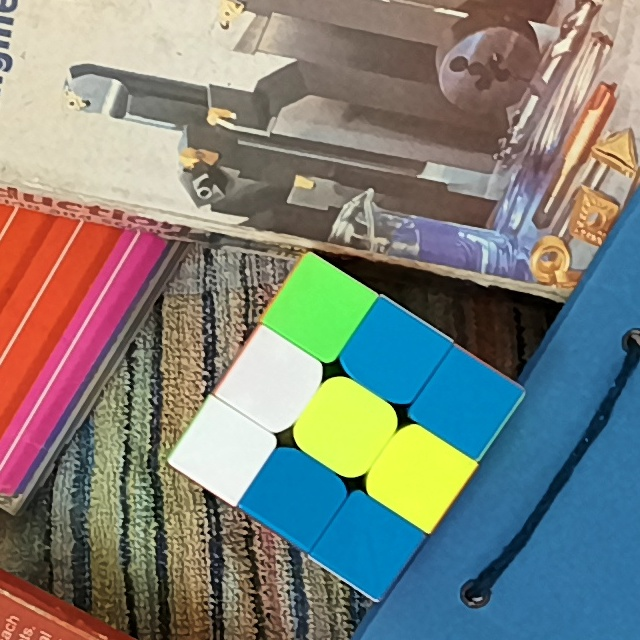tile: (362, 325, 424, 385), (388, 444, 448, 503), (437, 374, 495, 435), (316, 396, 377, 454), (340, 515, 400, 572), (290, 281, 346, 338), (243, 355, 302, 408), (194, 425, 253, 476), (271, 469, 325, 521)
